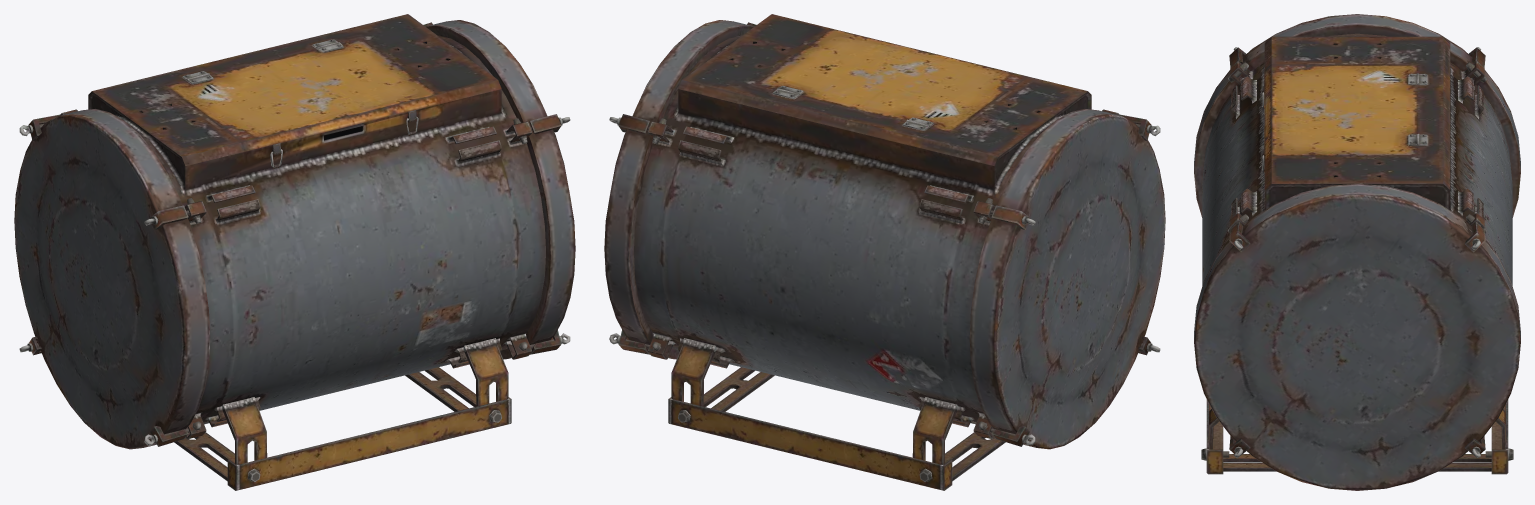
The model's file is industrial_storage_horizontal.glb.
3 views of the same model, side by side, from view 1: azimuth 30°, elevation 25°; view 2: azimuth 150°, elevation 25°; view 3: azimuth 270°, elevation 25° (orthographic). The views are drawn at different scales.
Visible parts, largest first — view 1: model; view 2: model; view 3: model.
Part boxes in pixels (x1=…): model: x1=14, y1=14, x2=575, y2=490; model: x1=604, y1=14, x2=1165, y2=490; model: x1=1194, y1=14, x2=1520, y2=490.
Size of the model in its own units: 1.34 by 0.9653 by 0.9347.
1 material, 1 textured.
